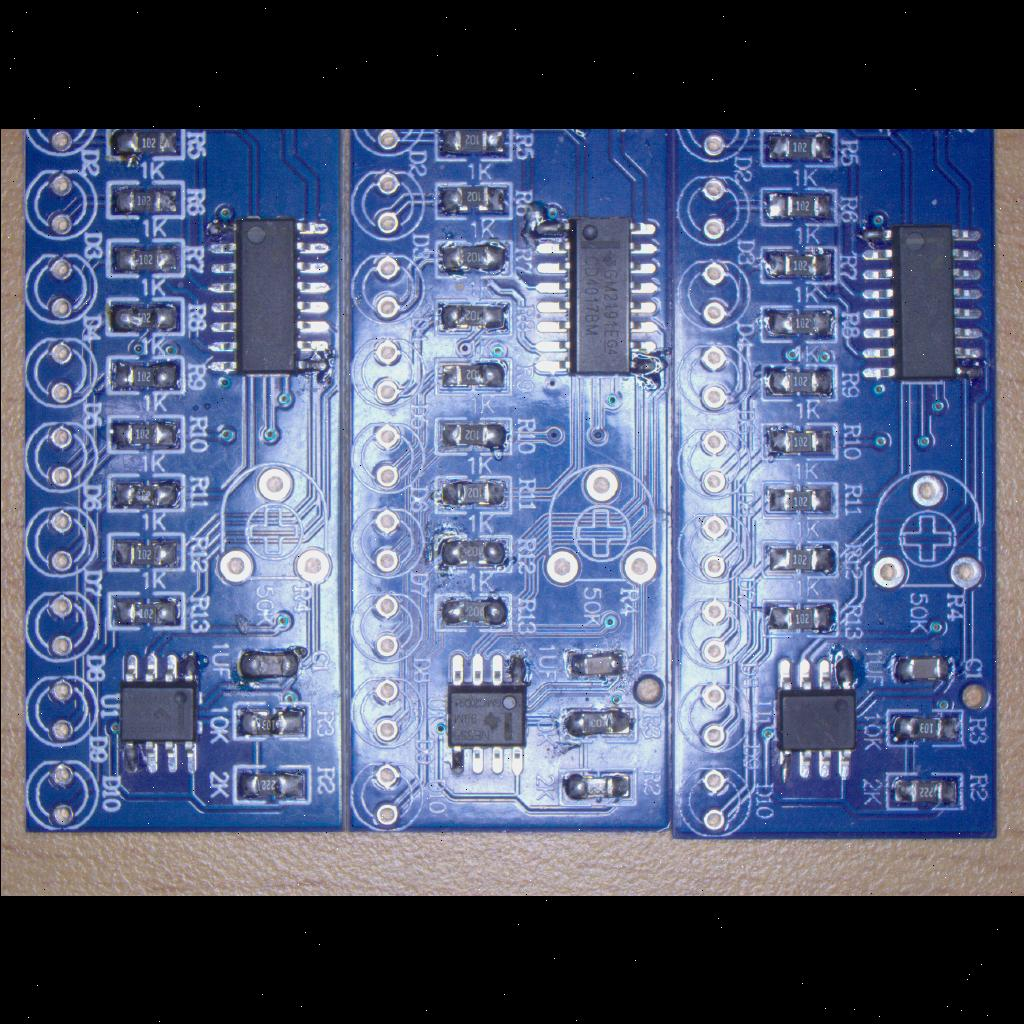OK: (522, 204, 666, 386), (198, 208, 336, 380), (856, 216, 992, 386), (439, 641, 535, 787), (115, 644, 201, 782), (224, 760, 316, 810), (753, 358, 843, 406), (754, 300, 844, 348), (102, 410, 188, 460), (879, 768, 967, 816), (756, 476, 844, 524), (555, 762, 639, 812), (430, 528, 514, 578), (224, 698, 314, 744), (103, 527, 189, 575), (102, 292, 188, 340), (430, 292, 516, 340), (102, 470, 190, 516), (554, 701, 642, 747), (758, 534, 842, 582), (758, 416, 842, 464), (756, 241, 840, 289), (103, 352, 189, 398), (102, 236, 188, 282), (430, 236, 516, 282), (754, 128, 840, 174), (432, 411, 514, 459), (103, 176, 187, 222), (430, 588, 514, 634), (882, 706, 966, 752), (756, 596, 842, 640), (102, 590, 190, 632), (429, 356, 517, 398), (428, 180, 516, 222), (428, 474, 514, 516), (756, 186, 840, 228), (100, 128, 190, 166), (432, 128, 518, 164), (234, 644, 304, 682), (888, 650, 956, 684), (562, 648, 626, 680)
